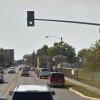Traffic light: (21, 7, 43, 37)
